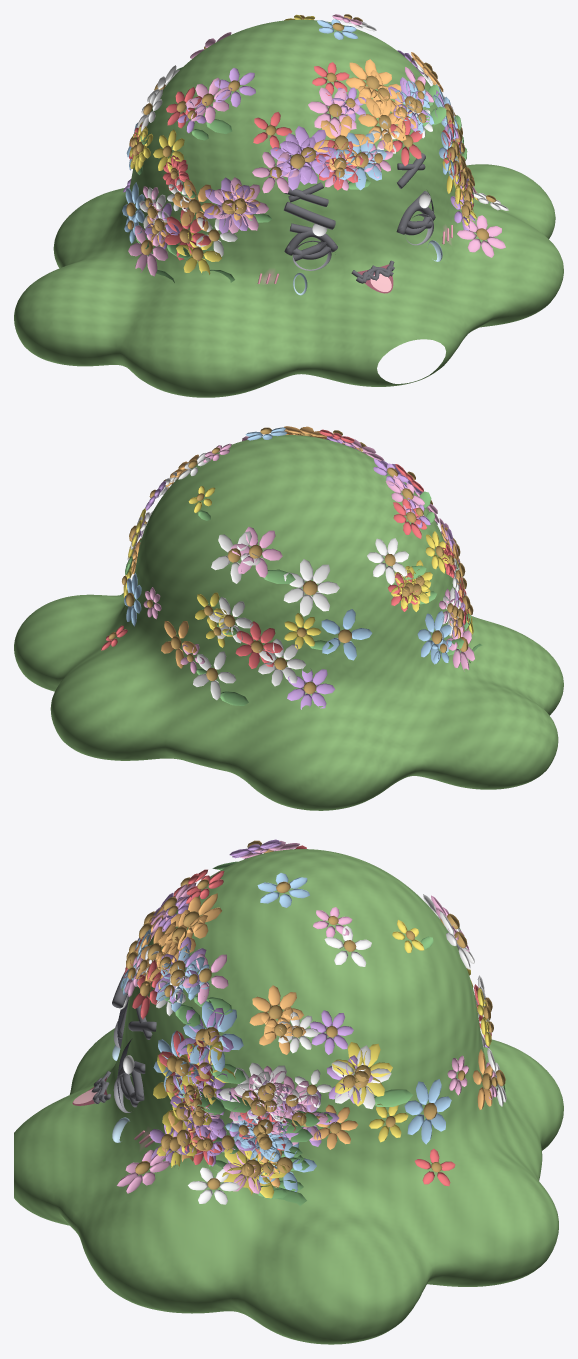
Rendered from n_flower_slime.glb.
The picture shows the model from 3 angles, top to bottom: view 1: azimuth 30°, elevation 25°; view 2: azimuth 150°, elevation 25°; view 3: azimuth 270°, elevation 25°; orthographic projection. The views are drawn at different scales.
Visible parts, largest first — view 1: BodyMesh, face_eyes_happy, face_eyes_normal, face_eyes_strain, face_brows_angry, face_brow_smug; view 2: BodyMesh; view 3: BodyMesh, face_eyes_normal.
Boxes of the visible parts, x1,y1,x2,y2 form: BodyMesh: (14, 14, 563, 397); face_eyes_happy: (284, 204, 435, 255); face_eyes_normal: (292, 190, 433, 270); face_eyes_strain: (289, 191, 432, 261); face_brows_angry: (284, 153, 425, 206); face_brow_smug: (283, 202, 335, 229); BodyMesh: (14, 426, 563, 810); BodyMesh: (14, 839, 563, 1344); face_eyes_normal: (113, 994, 134, 1112).
Bounding box in the file's own units: 2.93 × 1.48 × 2.17.
